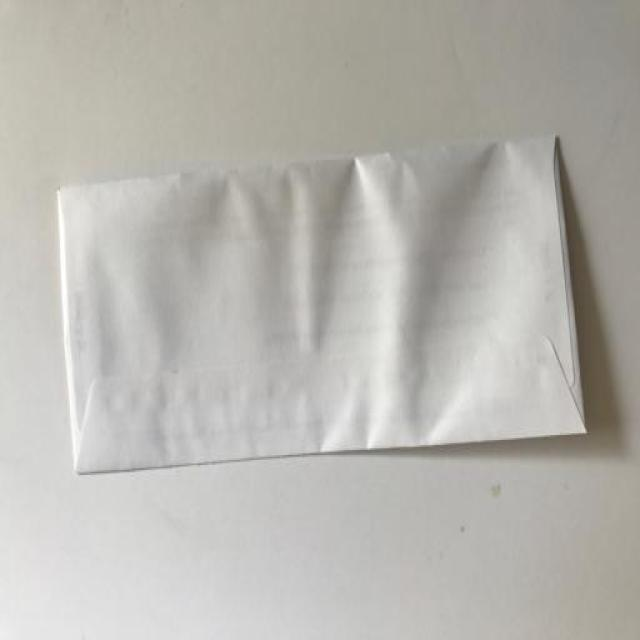non-organik: (60, 126, 600, 488)
